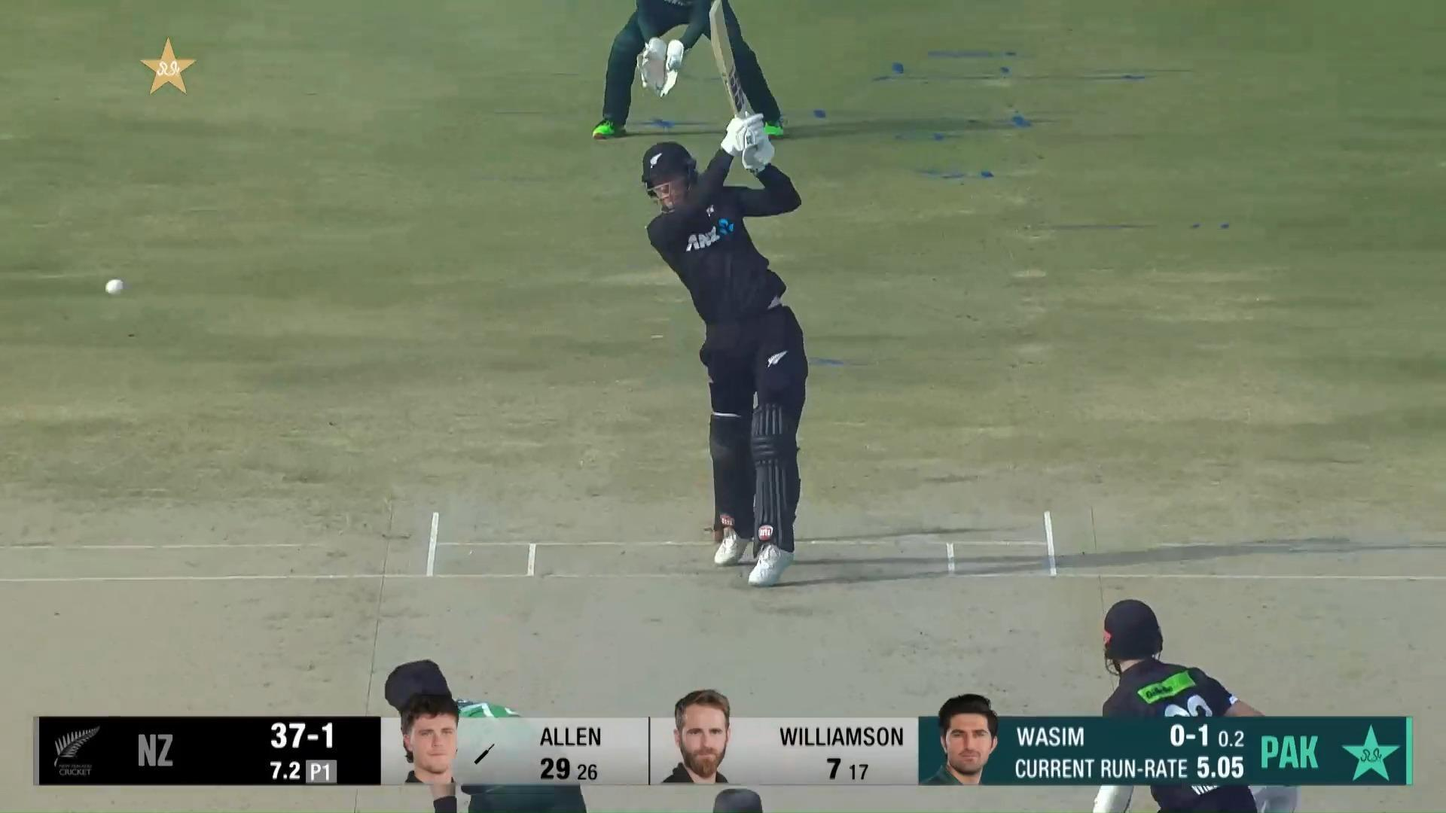BM 1: (639, 0, 809, 588)
BO: (379, 652, 593, 813)
